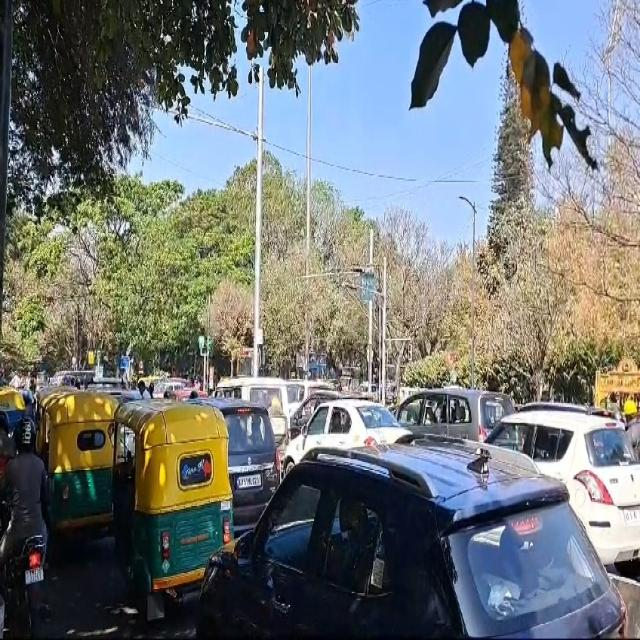cars: (196, 443, 629, 640), (490, 410, 640, 571), (286, 400, 417, 469), (396, 389, 520, 458), (221, 402, 282, 531)
